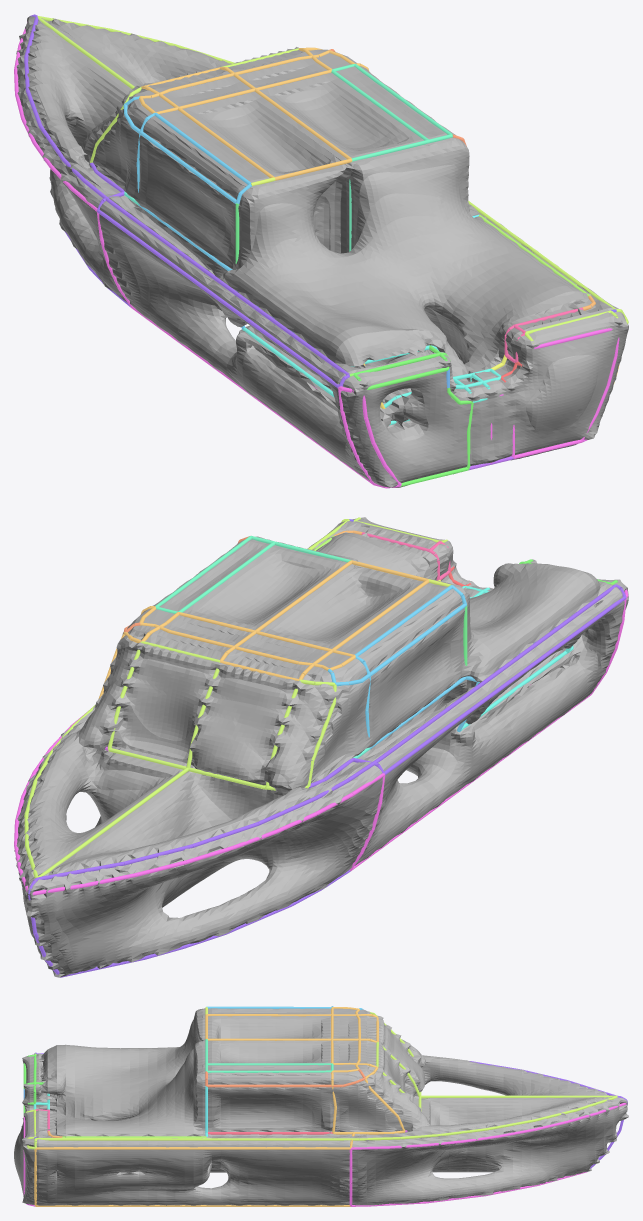
Rendered from flowrep_boat.gltf.
3 renders of one model, top to bottom at view 1: azimuth 30°, elevation 25°; view 2: azimuth 150°, elevation 25°; view 3: azimuth 270°, elevation 25°, orthographic. The views are drawn at different scales.
Size of the model in its own units: 0.3318 by 0.241 by 0.9385.
